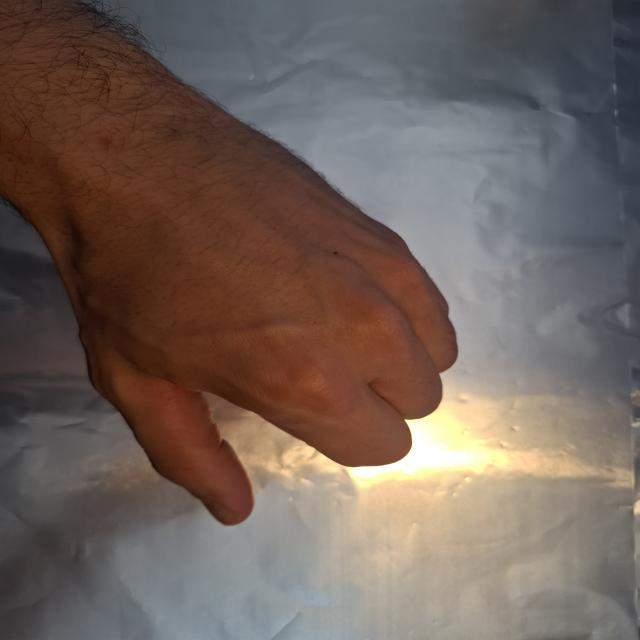glove_off: (40, 145, 462, 528)
